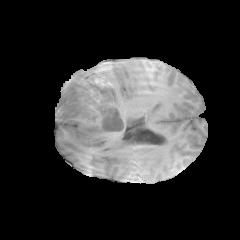glioma: (56, 60, 127, 147)
